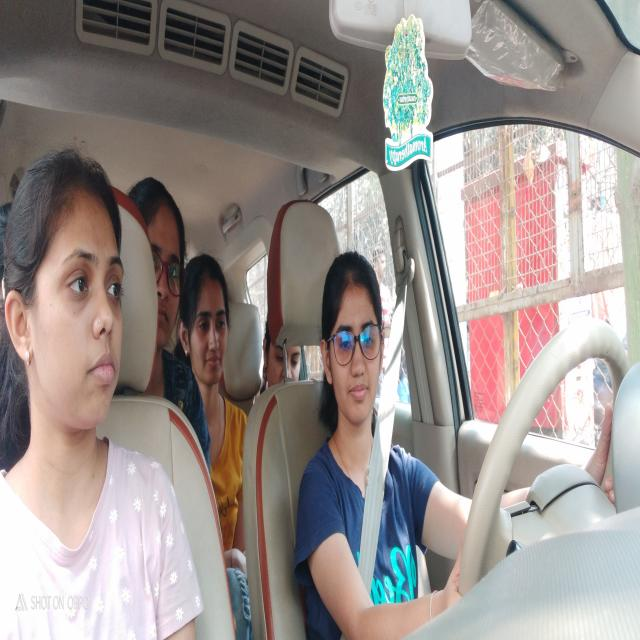person: (5, 149, 130, 430), (318, 243, 386, 444), (131, 166, 187, 352), (183, 262, 233, 395), (265, 331, 310, 390)
